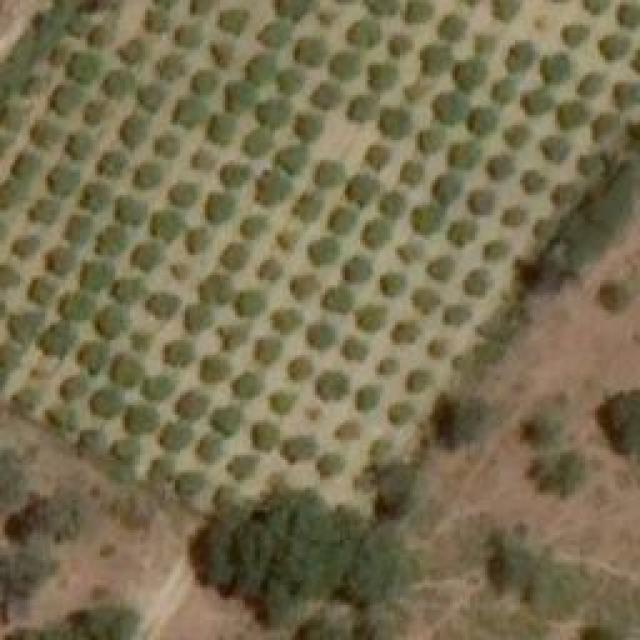Tree: (191, 480, 354, 626), (347, 518, 432, 604), (528, 562, 587, 620), (430, 398, 485, 451), (0, 552, 42, 617), (600, 390, 640, 458), (518, 395, 571, 445), (375, 468, 425, 521), (0, 445, 35, 518), (295, 602, 358, 640), (530, 453, 585, 493), (488, 547, 535, 593), (73, 605, 136, 639), (40, 323, 78, 356), (78, 340, 111, 373), (258, 173, 291, 203), (8, 313, 41, 343), (595, 280, 628, 310), (80, 262, 115, 290), (93, 227, 128, 255), (345, 20, 380, 48), (130, 242, 163, 270), (48, 167, 81, 195), (100, 70, 138, 93), (455, 60, 485, 88), (435, 95, 465, 123), (317, 370, 345, 400), (30, 120, 60, 148), (63, 132, 93, 160), (50, 87, 80, 115), (200, 275, 233, 300), (28, 198, 61, 223), (258, 23, 291, 48), (97, 307, 125, 335), (0, 182, 28, 210), (72, 52, 100, 80), (157, 52, 185, 80), (60, 295, 93, 318), (218, 10, 251, 33), (420, 48, 450, 73), (450, 145, 480, 170), (258, 103, 288, 128), (330, 53, 360, 78), (178, 393, 208, 418), (125, 408, 155, 433), (123, 118, 148, 148), (63, 215, 93, 240), (508, 42, 533, 70), (545, 55, 570, 83), (590, 115, 618, 140), (557, 103, 585, 128), (350, 95, 378, 120), (295, 40, 323, 65), (225, 85, 253, 110), (295, 195, 323, 220), (327, 208, 355, 233), (80, 185, 108, 210), (115, 198, 143, 223), (150, 213, 178, 238), (325, 285, 353, 310), (185, 305, 213, 330), (255, 340, 283, 365), (198, 435, 223, 463), (112, 360, 140, 385), (45, 408, 73, 433), (13, 152, 38, 180), (275, 0, 310, 20), (218, 325, 248, 348), (285, 438, 315, 461), (143, 378, 173, 401), (228, 458, 258, 481), (93, 393, 123, 416), (148, 295, 178, 318), (10, 388, 40, 411), (402, 0, 432, 22), (600, 35, 628, 58), (277, 148, 305, 171), (412, 208, 440, 231), (312, 85, 340, 108), (365, 220, 388, 248), (355, 308, 383, 331), (342, 258, 370, 281), (235, 373, 263, 396), (115, 278, 143, 301), (45, 250, 73, 273), (142, 10, 170, 33), (615, 83, 640, 108), (208, 115, 233, 140), (383, 110, 408, 135), (370, 63, 395, 88), (178, 98, 203, 123), (208, 195, 233, 220), (310, 240, 335, 265), (253, 425, 278, 450), (0, 108, 25, 133), (523, 90, 553, 110), (493, 78, 516, 103), (318, 163, 343, 186), (350, 178, 375, 201), (278, 70, 303, 93), (250, 55, 273, 80), (288, 355, 311, 380), (213, 410, 238, 433), (203, 358, 228, 381), (30, 280, 55, 303), (83, 103, 108, 126), (138, 88, 163, 111), (210, 43, 233, 68), (120, 40, 145, 63), (362, 0, 400, 15), (295, 118, 323, 138), (222, 165, 250, 185), (170, 185, 198, 205), (235, 293, 263, 313), (147, 460, 175, 480), (162, 425, 190, 445), (175, 25, 203, 45), (490, 155, 513, 178), (415, 288, 438, 311), (293, 275, 316, 298), (20, 75, 43, 98), (492, 0, 520, 18), (272, 310, 300, 328), (578, 75, 603, 95), (543, 138, 568, 158), (243, 133, 268, 153), (135, 165, 160, 185), (100, 155, 125, 175), (310, 325, 335, 345), (393, 323, 418, 343), (428, 258, 453, 278), (168, 343, 193, 363), (178, 475, 203, 495), (113, 443, 138, 463), (63, 378, 88, 398), (88, 23, 108, 48), (388, 35, 413, 55), (580, 0, 613, 14), (620, 3, 640, 26), (505, 125, 528, 145), (473, 110, 496, 130), (523, 170, 546, 190), (450, 223, 473, 243), (193, 73, 216, 93), (223, 245, 246, 265), (383, 275, 406, 295), (468, 270, 488, 293), (358, 388, 381, 408), (408, 370, 431, 390), (270, 393, 293, 413), (48, 45, 68, 68), (563, 25, 588, 43), (240, 217, 265, 235), (343, 340, 368, 358), (318, 455, 343, 473), (353, 472, 378, 490), (403, 80, 426, 98), (155, 137, 178, 155), (275, 230, 298, 248), (187, 230, 205, 253), (128, 332, 151, 350), (13, 237, 36, 255), (443, 18, 463, 38), (473, 193, 493, 213), (403, 163, 423, 183), (260, 260, 280, 280), (390, 403, 410, 423), (190, 153, 215, 168), (445, 308, 470, 323), (485, 243, 510, 258), (335, 423, 360, 438), (475, 35, 493, 55), (555, 187, 575, 205), (578, 157, 598, 175), (382, 195, 400, 215), (437, 180, 455, 200), (420, 128, 438, 148), (368, 147, 388, 165), (372, 443, 390, 463), (0, 348, 18, 368), (503, 208, 526, 223), (398, 245, 421, 260), (80, 433, 103, 448), (190, 0, 213, 15), (0, 267, 18, 285), (430, 338, 450, 353), (378, 358, 398, 373), (170, 265, 190, 280)
